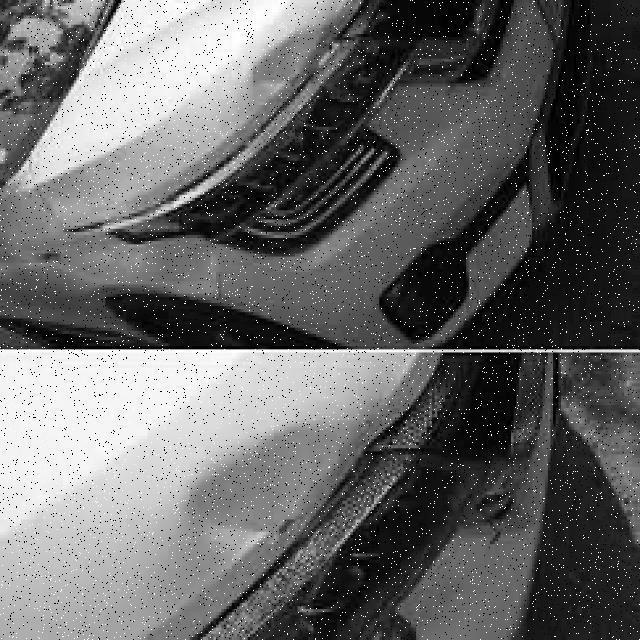bonnet-dent: (0, 349, 364, 637)
